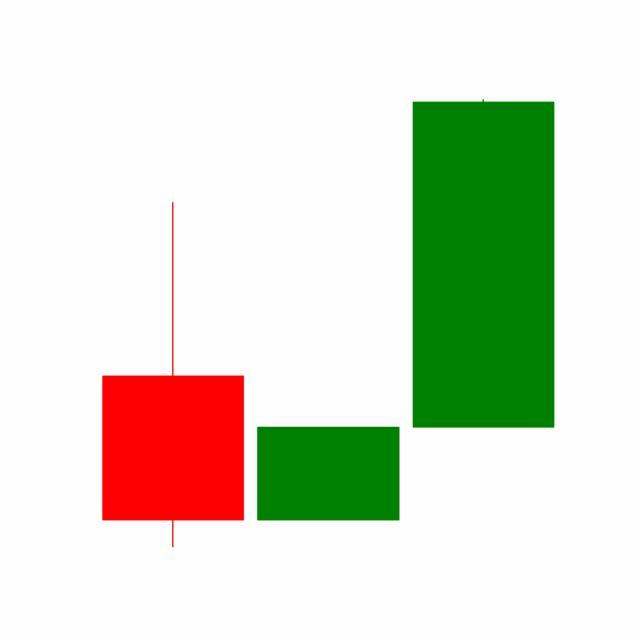Marubozu: (406, 96, 562, 432)
